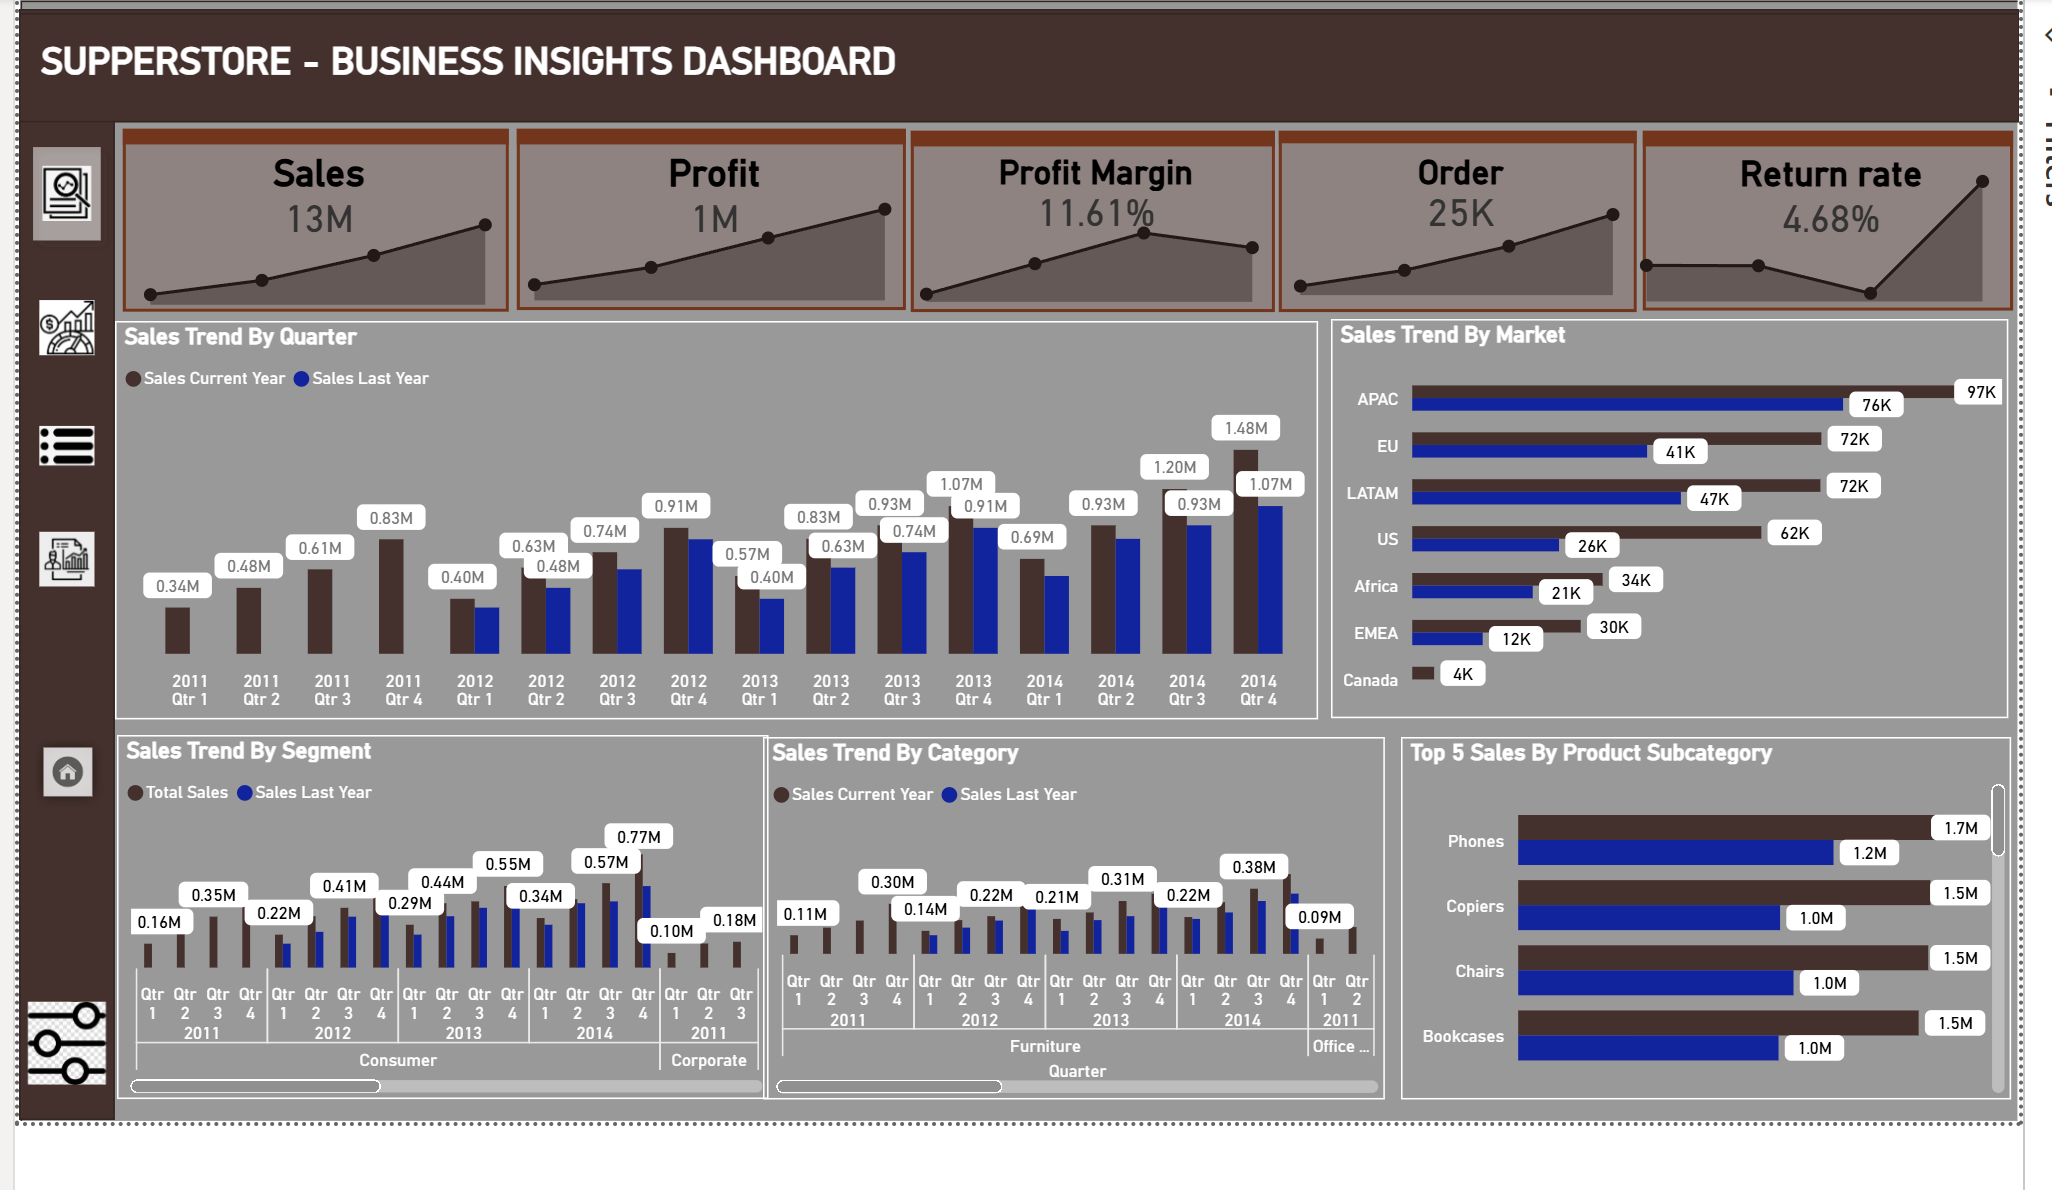

Layout of this report page (visuals, bound fields, positions):
{"tool":"powerbi","page":{"name":"BUSINESS  OVERVIEW","canvas":[1280,720],"ordinal":1},"visuals":[{"type":"textbox","box":[10,0,280,280],"z":0},{"type":"cardVisual","fields":{"Data":["Dimension.Total Revenue"]},"box":[61,79,257.9,127.1],"z":0,"group":"g3"},{"type":"cardVisual","fields":{"Data":["Dimension.Total Profit"]},"box":[313,79.9,259.3,126.4],"z":0,"group":"g1"},{"type":"cardVisual","fields":{"Data":["Dimension.Return rate"]},"box":[1034.3,80.7,247.5,125],"z":0,"group":"g4"},{"type":"cardVisual","fields":{"Data":["Dimension.Profit Margin"]},"box":[566,81,243,126],"z":0,"group":"g5"},{"type":"cardVisual","fields":{"Data":["Dimension.Total Order"]},"box":[801,81,239,126],"z":0,"group":"g2"},{"type":"actionButton","box":[0,86.7,61.3,77.8],"z":0,"group":"g6"},{"type":"lineClusteredColumnComboChart","title":"Sales Trend By Quarter","fields":{"Category":["dimDate.Date.Variation.Date Hierarchy.Year","dimDate.Date.Variation.Date Hierarchy.Quarter"],"Y":["Dimension.Total Sales","Dimension.Revenue LY"]},"box":[61.2,207.9,770,255],"z":0,"group":"g7"},{"type":"shape","box":[0,1,1280,719],"z":1000},{"type":"shape","box":[0,10,1280.4,70],"z":1000,"group":"g8"},{"type":"lineChart","fields":{"Category":["dimDate.Quarter"],"Y":["Dimension.Return rate"]},"box":[1026.2,100,245.1,100],"z":1000,"group":"g4"},{"type":"lineChart","fields":{"Category":["dimDate.Date.Variation.Date Hierarchy.Year","dimDate.Date.Variation.Date Hierarchy.Quarter"],"Y":["Dimension.Total Profit"]},"box":[314.4,104.3,254.3,95.7],"z":1000,"group":"g1"},{"type":"lineChart","fields":{"Y":["Dimension.Total Order"],"Category":["dimDate.Date.Variation.Date Hierarchy.Year","dimDate.Date.Variation.Date Hierarchy.Quarter"]},"box":[805.3,109.6,230,87.1],"z":1000,"group":"g2"},{"type":"lineChart","fields":{"Category":["dimDate.Date.Variation.Date Hierarchy.Year","dimDate.Date.Variation.Date Hierarchy.Quarter"],"Y":["Dimension.Total Revenue"]},"box":[68.1,116.2,244.3,85.7],"z":1000,"group":"g3"},{"type":"lineChart","fields":{"Y":["Dimension.Profit Margin"],"Category":["dimDate.Date.Variation.Date Hierarchy.Year","dimDate.Date.Variation.Date Hierarchy.Quarter"]},"box":[566,133.9,238.6,67.1],"z":1000,"group":"g5"},{"type":"actionButton","box":[0,168.9,61.3,85.2],"z":1000,"group":"g6"},{"type":"clusteredColumnChart","title":"Sales Trend By Category","fields":{"Category":["Orders.Category","dimDate.Date.Variation.Date Hierarchy.Year","dimDate.Date.Variation.Date Hierarchy.Quarter"],"Y":["Dimension.Total Sales","Dimension.Revenue LY"]},"box":[475.5,474.1,397.8,231.8],"z":1000,"group":"g7"},{"type":"shape","box":[0,65.8,61.3,653.5],"z":2000},{"type":"clusteredBarChart","title":"Sales Trend By Market","fields":{"Category":["Orders.Market"],"Y":["Dimension.Total Sales","Dimension.Revenue LY"]},"box":[838.9,206.4,433.6,255.7],"z":2000,"group":"g7"},{"type":"actionButton","box":[0,309.5,61.3,100.2],"z":2000,"group":"g6"},{"type":"shape","box":[0,7.6,1280.4,70],"z":3000},{"type":"textbox","box":[9.5,21.1,639.4,46.1],"z":3000,"group":"g8"},{"type":"actionButton","box":[0,234.7,61.3,103.2],"z":3000,"group":"g6"},{"type":"clusteredBarChart","title":"Top 5 Sales By Product Subcategory","fields":{"Category":["Orders.Sub-Category"],"Y":["Dimension.Total Sales","Dimension.Revenue LY"]},"box":[883.7,474.1,390.3,231.8],"z":3000,"group":"g7"},{"type":"group","id":"g1","title":"Profit","box":[313,79.9,259.3,126.4],"z":4000},{"type":"clusteredColumnChart","title":"Sales Trend By Segment","fields":{"Category":["Orders.Segment","dimDate.Date.Variation.Date Hierarchy.Year","dimDate.Date.Variation.Date Hierarchy.Quarter"],"Y":["Dimension.Total Sales","Dimension.Revenue LY"]},"box":[62.3,473,417.1,232.9],"z":4000,"group":"g7"},{"type":"actionButton","box":[0,619,61.3,100.2],"z":4000,"group":"g6"},{"type":"group","id":"g2","title":"Order","box":[801,81,239,126],"z":5000},{"type":"group","id":"g3","title":"Sales","box":[61,79,257.9,127.1],"z":6000},{"type":"group","id":"g4","title":"Return","box":[1026.2,80.7,255.6,125],"z":7000},{"type":"group","id":"g5","title":"Margin","box":[566,81,243,126],"z":8000},{"type":"group","id":"g6","title":"Group 1","box":[0,86.7,61.3,632.5],"z":9000},{"type":"group","id":"g7","title":"Group 2","box":[61.2,206.4,1212.8,499.5],"z":10000},{"type":"group","id":"g8","title":"Group 1","box":[0,10,1280.4,70],"z":12000},{"type":"actionButton","box":[7.5,472.5,47.5,47.5],"z":12500}]}

Visuals, with their boxes on the page's 1280x720 design canvas (x1, y1, x2, y2). These are canvas units, not pixel positions in the 2052x1190 screenshot, which may show the page scaled, cropped or inside an application window:
textbox: x1=10, y1=0, x2=290, y2=280
cardVisual - Dimension.Total Revenue: x1=61, y1=79, x2=319, y2=206
cardVisual - Dimension.Total Profit: x1=313, y1=80, x2=572, y2=206
cardVisual - Dimension.Return rate: x1=1034, y1=81, x2=1282, y2=206
cardVisual - Dimension.Profit Margin: x1=566, y1=81, x2=809, y2=207
cardVisual - Dimension.Total Order: x1=801, y1=81, x2=1040, y2=207
actionButton: x1=0, y1=87, x2=61, y2=164
"Sales Trend By Quarter" lineClusteredColumnComboChart: x1=61, y1=208, x2=831, y2=463
shape: x1=0, y1=1, x2=1280, y2=720
shape: x1=0, y1=10, x2=1280, y2=80
lineChart - dimDate.Quarter x Dimension.Return rate: x1=1026, y1=100, x2=1271, y2=200
lineChart - dimDate.Date.Variation.Date Hierarchy.Year x dimDate.Date.Variation.Date Hierarchy.Quarter: x1=314, y1=104, x2=569, y2=200
lineChart - Dimension.Total Order x dimDate.Date.Variation.Date Hierarchy.Year: x1=805, y1=110, x2=1035, y2=197
lineChart - dimDate.Date.Variation.Date Hierarchy.Year x dimDate.Date.Variation.Date Hierarchy.Quarter: x1=68, y1=116, x2=312, y2=202
lineChart - Dimension.Profit Margin x dimDate.Date.Variation.Date Hierarchy.Year: x1=566, y1=134, x2=805, y2=201
actionButton: x1=0, y1=169, x2=61, y2=254
"Sales Trend By Category" clusteredColumnChart: x1=476, y1=474, x2=873, y2=706
shape: x1=0, y1=66, x2=61, y2=719
"Sales Trend By Market" clusteredBarChart: x1=839, y1=206, x2=1272, y2=462
actionButton: x1=0, y1=310, x2=61, y2=410
shape: x1=0, y1=8, x2=1280, y2=78
textbox: x1=10, y1=21, x2=649, y2=67
actionButton: x1=0, y1=235, x2=61, y2=338
"Top 5 Sales By Product Subcategory" clusteredBarChart: x1=884, y1=474, x2=1274, y2=706
"Profit" group: x1=313, y1=80, x2=572, y2=206
"Sales Trend By Segment" clusteredColumnChart: x1=62, y1=473, x2=479, y2=706
actionButton: x1=0, y1=619, x2=61, y2=719
"Order" group: x1=801, y1=81, x2=1040, y2=207
"Sales" group: x1=61, y1=79, x2=319, y2=206
"Return" group: x1=1026, y1=81, x2=1282, y2=206
"Margin" group: x1=566, y1=81, x2=809, y2=207
"Group 1" group: x1=0, y1=87, x2=61, y2=719
"Group 2" group: x1=61, y1=206, x2=1274, y2=706
"Group 1" group: x1=0, y1=10, x2=1280, y2=80
actionButton: x1=8, y1=472, x2=55, y2=520
